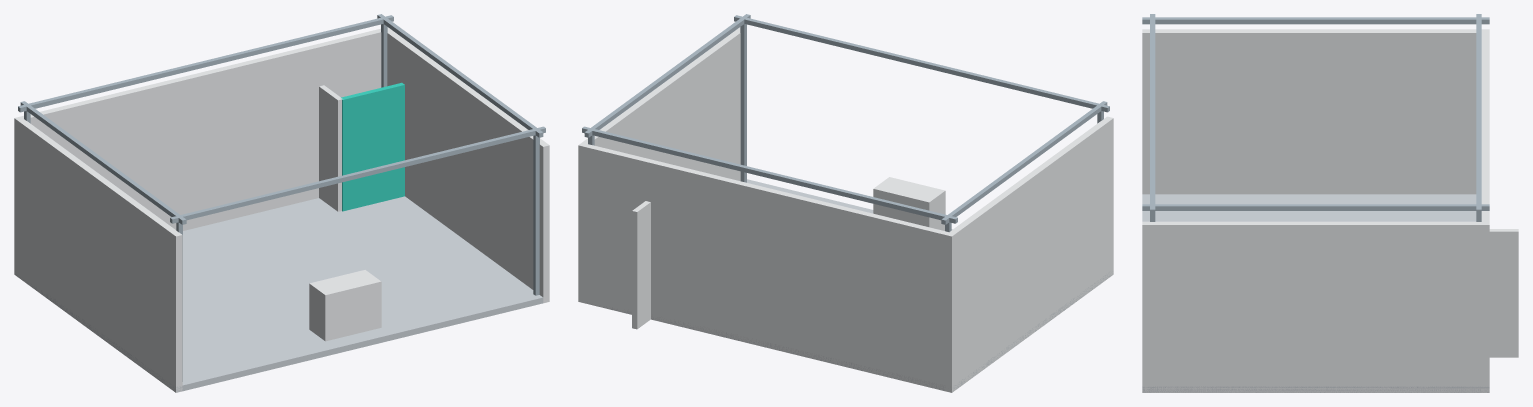
3 views of the same model, side by side, from view 1: azimuth 30°, elevation 25°; view 2: azimuth 150°, elevation 25°; view 3: azimuth 270°, elevation 25° (orthographic). The views are drawn at different scales.
Visible parts, largest first — view 1: Exhibition Booth Concept; view 2: Exhibition Booth Concept; view 3: Exhibition Booth Concept.
Part boxes in pixels (<box>): Exhibition Booth Concept: <box>14,14,549,392</box>; Exhibition Booth Concept: <box>578,14,1113,392</box>; Exhibition Booth Concept: <box>1142,14,1518,392</box>.
Size of the model in its own units: 8 by 3.49 by 6.51.
